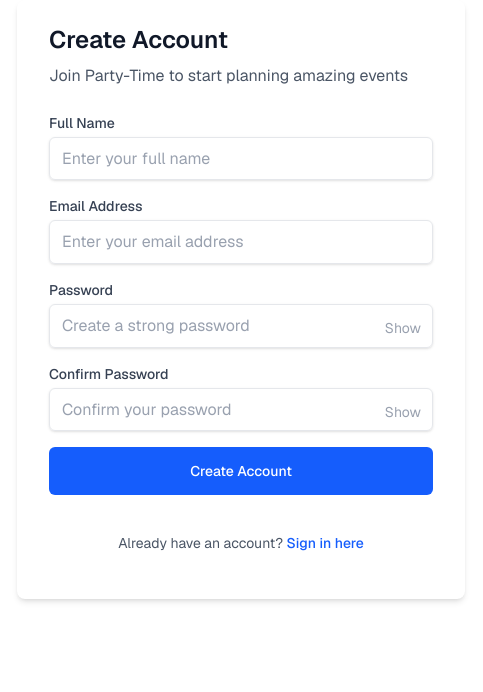
Test case: RegisterForm › shows validation error for short name
In the field labelled "Full Name": (241, 159) [49,137,433,180], type "A"
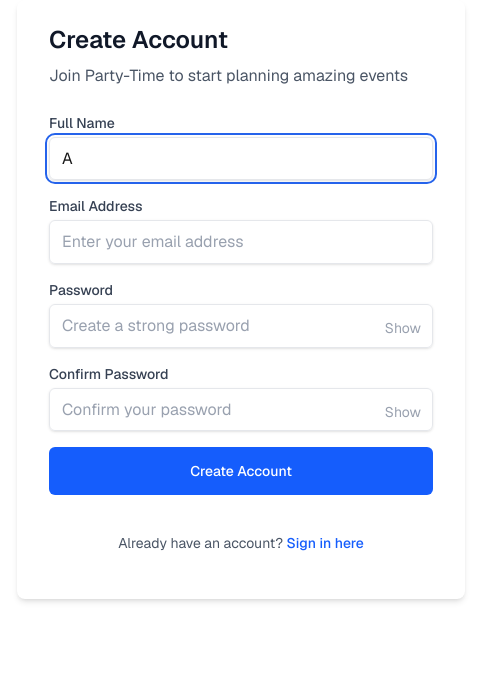
Click the button "Create Account": (241, 471) [49,447,433,495]
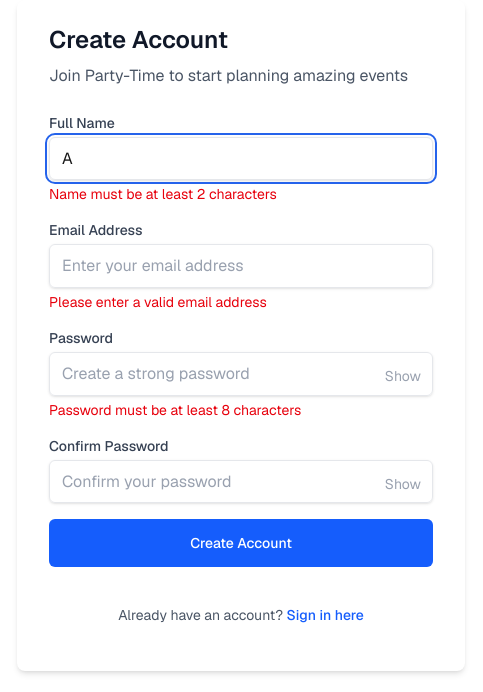
Expected: the text "Name must be at least 2 characters" is shown, [49,185,277,203]
